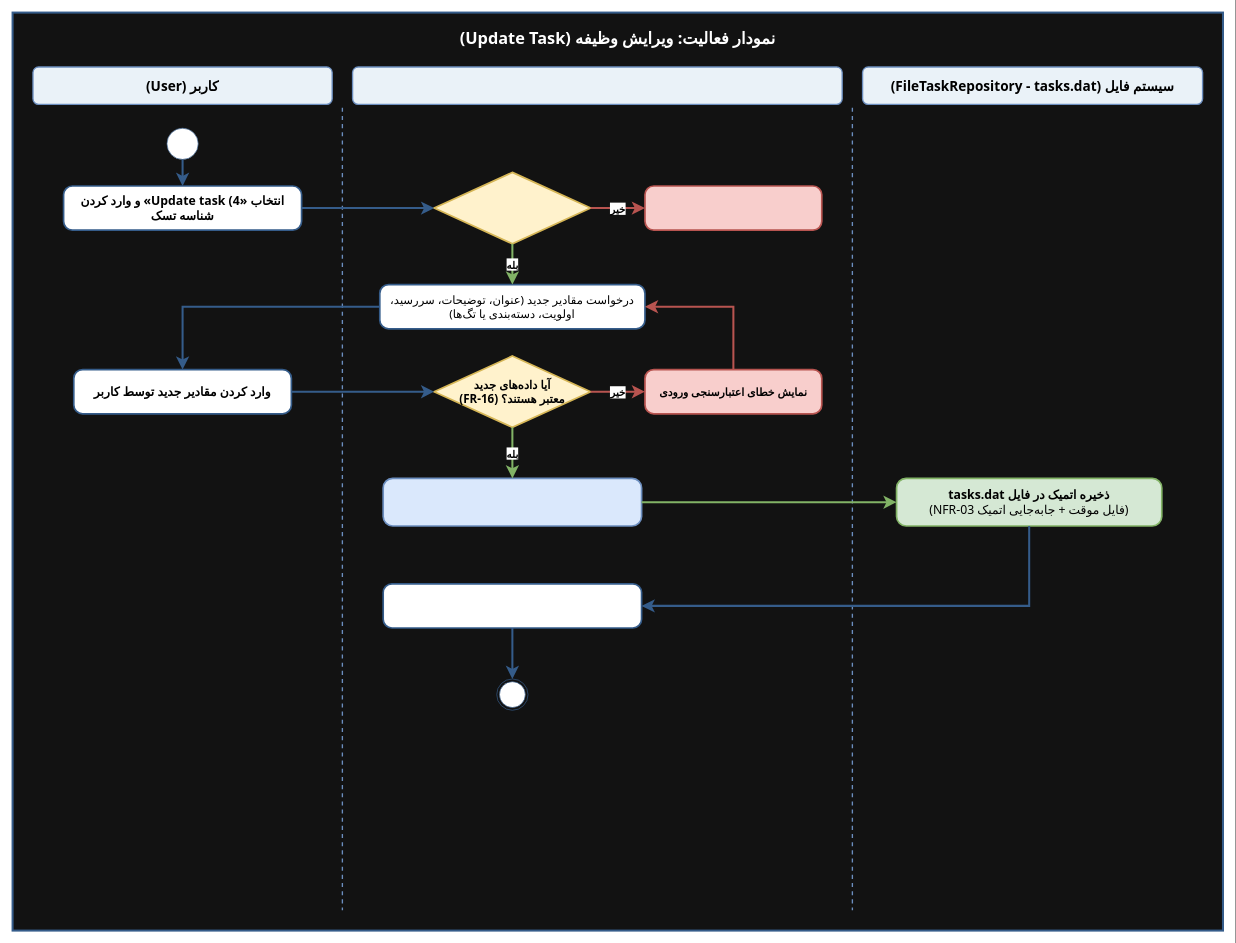
Image size: 1236x943. Some labels were removed from this diagram. The shapes that lost their labels are listed below. From the top down, each one's centre as x and y in pixels, then its label:
At point (597, 85): "سامانه (ConsoleUI & TaskService)".
At point (512, 207): "آیا تسک متعلق به کاربر وجود دارد؟".
At point (733, 208): "نمایش خطای «وظیفه یافت نشد»".
At point (512, 502): "به‌روزرسانی فیلدهای شیء Task در حافظه".
At point (512, 606): "نمایش پیام تأیید ویرایش موفق وظیفه".
